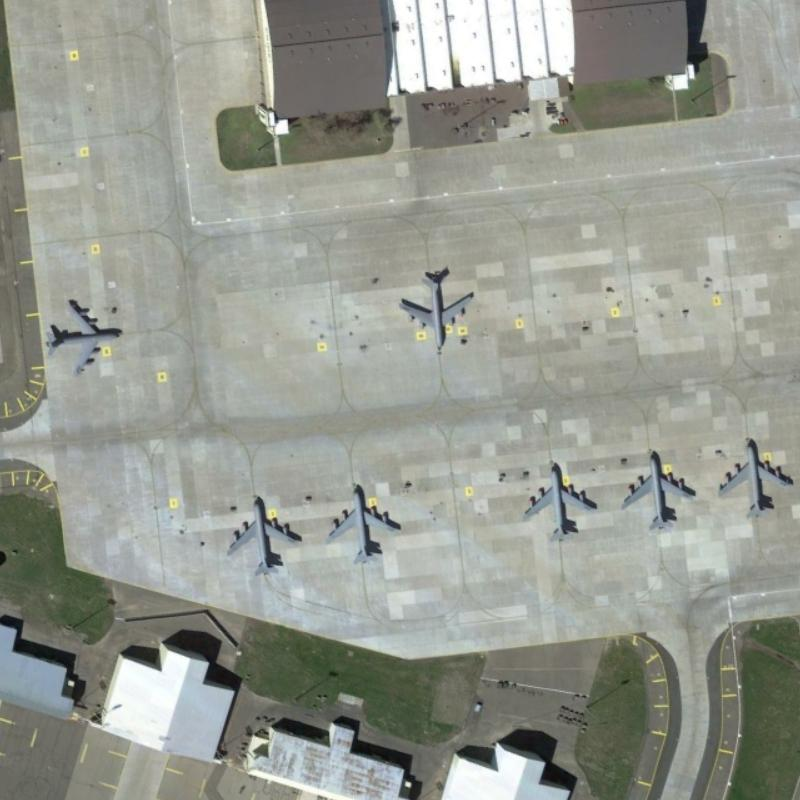A14: (220, 485, 304, 580), (391, 260, 480, 348), (620, 445, 704, 533), (324, 483, 413, 566), (519, 456, 604, 542), (41, 293, 128, 376), (714, 430, 795, 518)
